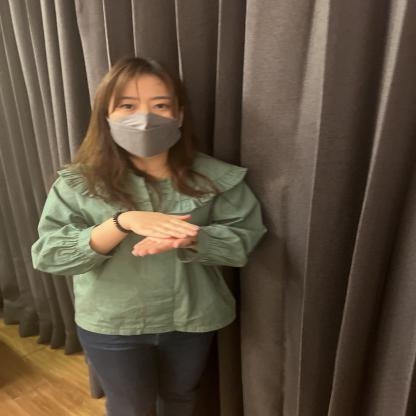Love: (42, 190, 287, 294)
